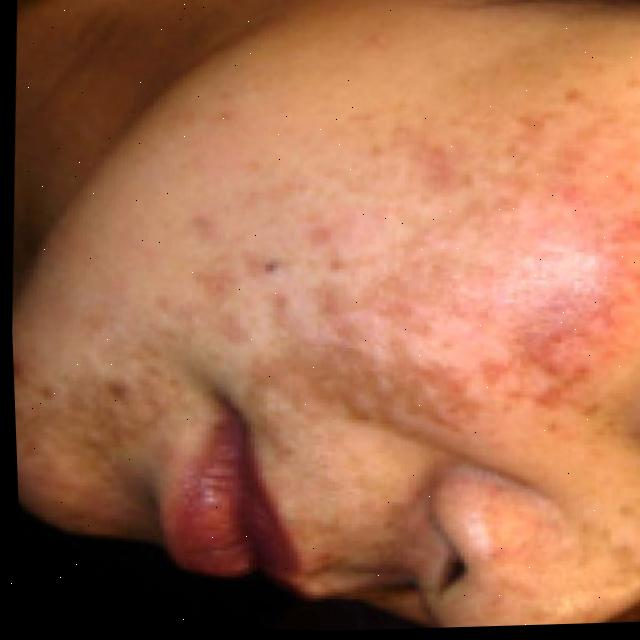Melasma: (168, 91, 640, 421), (48, 379, 152, 496)
